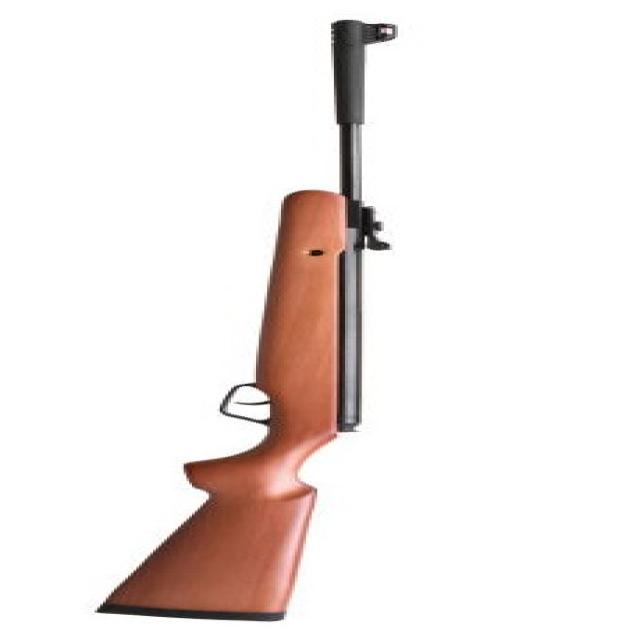rifle: (67, 20, 418, 632)
